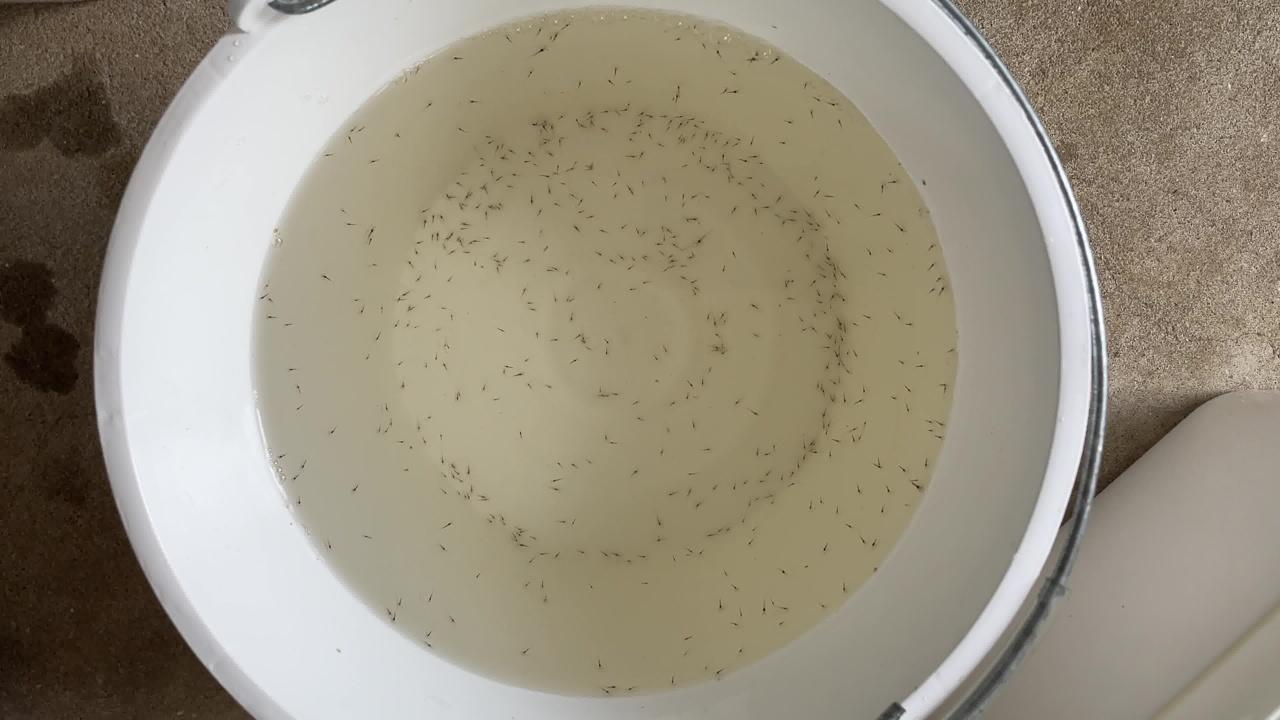shrimp: (829, 101, 841, 109), (835, 117, 847, 125), (814, 95, 826, 103), (807, 111, 819, 119), (801, 81, 813, 89), (784, 117, 796, 125), (776, 138, 788, 146), (746, 136, 758, 144), (747, 149, 759, 157), (756, 157, 768, 165), (739, 158, 751, 166), (734, 142, 746, 150), (737, 134, 749, 142), (724, 137, 736, 145), (714, 137, 726, 145), (710, 131, 722, 139), (703, 131, 715, 139), (699, 117, 711, 125), (690, 120, 702, 128), (690, 129, 702, 137), (682, 136, 694, 144), (677, 136, 689, 144), (676, 130, 688, 138), (677, 121, 689, 129), (677, 113, 689, 121), (665, 117, 677, 125), (663, 123, 675, 131), (663, 112, 675, 120), (658, 141, 670, 149), (645, 130, 657, 138), (637, 150, 649, 158), (629, 151, 641, 159), (627, 136, 639, 144), (630, 129, 642, 137), (637, 119, 649, 127), (645, 112, 657, 120), (638, 107, 650, 115), (673, 80, 685, 88), (675, 94, 687, 102), (729, 88, 741, 96), (720, 86, 732, 94), (612, 67, 624, 75), (625, 77, 637, 85), (606, 77, 618, 85), (576, 78, 588, 86), (623, 98, 635, 106), (620, 103, 632, 111), (614, 107, 626, 115), (602, 105, 614, 113), (603, 125, 615, 133), (588, 118, 600, 126), (591, 112, 603, 120), (587, 108, 599, 116), (576, 121, 588, 129), (559, 111, 571, 119), (558, 131, 570, 139), (553, 138, 565, 146), (539, 142, 551, 150), (543, 131, 555, 139), (544, 149, 556, 157), (550, 122, 562, 130), (541, 126, 553, 134), (539, 116, 551, 124), (532, 119, 544, 127), (527, 148, 539, 156), (522, 157, 534, 165), (529, 159, 541, 167), (510, 145, 522, 153), (499, 154, 511, 162), (498, 144, 510, 152), (493, 143, 505, 151), (487, 139, 499, 147), (484, 132, 496, 140), (478, 151, 490, 159), (478, 159, 490, 167), (510, 171, 522, 179), (507, 183, 519, 191), (496, 174, 508, 182), (486, 170, 498, 178), (540, 168, 552, 176), (553, 163, 565, 171), (550, 168, 562, 176), (568, 158, 580, 166), (562, 167, 574, 175), (586, 162, 598, 170), (590, 179, 602, 187), (608, 179, 620, 187), (610, 190, 622, 198), (624, 186, 636, 194), (618, 166, 630, 174), (639, 178, 651, 186), (659, 175, 671, 183), (659, 191, 671, 199), (674, 190, 686, 198), (677, 199, 689, 207), (687, 191, 699, 199), (700, 194, 712, 202), (681, 163, 693, 171), (691, 149, 703, 157), (705, 138, 717, 146), (695, 152, 707, 160), (701, 159, 713, 167), (710, 164, 722, 172), (719, 149, 731, 157), (722, 156, 734, 164), (726, 168, 738, 176), (723, 172, 735, 180), (745, 171, 757, 179), (736, 178, 748, 186), (759, 178, 771, 186), (751, 192, 763, 200), (730, 205, 742, 213), (751, 205, 763, 213), (761, 204, 773, 212), (776, 196, 788, 204), (771, 211, 783, 219), (786, 217, 798, 225), (789, 207, 801, 215), (778, 219, 790, 227), (811, 174, 823, 182), (811, 187, 823, 195), (821, 194, 833, 202), (824, 209, 836, 217), (831, 216, 843, 224), (812, 226, 824, 234), (815, 221, 827, 229), (807, 219, 819, 227), (804, 211, 816, 219), (798, 224, 810, 232), (796, 233, 808, 241), (824, 246, 836, 254), (840, 268, 852, 276), (831, 270, 843, 278), (829, 263, 841, 271), (824, 259, 836, 267), (822, 254, 834, 262), (819, 261, 831, 269), (819, 268, 831, 276), (811, 276, 823, 284), (833, 279, 845, 287), (813, 287, 825, 295), (800, 250, 812, 258), (840, 292, 852, 300), (829, 292, 841, 300), (826, 302, 838, 310), (863, 310, 875, 318), (849, 322, 861, 330), (845, 323, 857, 331), (837, 324, 849, 332), (835, 319, 847, 327), (810, 310, 822, 318), (815, 301, 827, 309), (795, 311, 807, 319), (799, 325, 811, 333), (809, 325, 821, 333), (786, 296, 798, 304), (782, 282, 794, 290), (788, 277, 800, 285), (753, 300, 765, 308), (753, 326, 765, 334), (828, 331, 840, 339), (830, 337, 842, 345), (839, 336, 851, 344), (854, 354, 866, 362), (841, 351, 853, 359), (832, 348, 844, 356), (819, 341, 831, 349), (822, 363, 834, 371), (832, 358, 844, 366), (841, 358, 853, 366), (843, 365, 855, 373), (837, 374, 849, 382), (831, 377, 843, 385), (839, 395, 851, 403), (830, 395, 842, 403), (820, 385, 832, 393), (817, 382, 829, 390), (859, 383, 871, 391), (856, 398, 868, 406), (819, 409, 831, 417), (827, 417, 839, 425), (825, 427, 837, 435), (815, 420, 827, 428), (862, 420, 874, 428), (858, 433, 870, 441), (851, 424, 863, 432), (850, 432, 862, 440), (833, 438, 845, 446), (825, 451, 837, 459), (812, 450, 824, 458), (808, 436, 820, 444), (800, 441, 812, 449), (803, 453, 815, 461), (794, 460, 806, 468), (788, 469, 800, 477), (789, 480, 801, 488), (779, 472, 791, 480), (771, 440, 783, 448), (764, 450, 776, 458), (753, 450, 765, 458), (751, 412, 763, 420), (731, 397, 743, 405), (732, 248, 744, 256), (720, 263, 732, 271), (718, 312, 730, 320), (723, 318, 735, 326), (711, 321, 723, 329), (703, 311, 715, 319), (714, 328, 726, 336), (721, 339, 733, 347), (722, 348, 734, 356), (712, 342, 724, 350), (709, 364, 721, 372), (700, 379, 712, 387), (684, 376, 696, 384), (684, 392, 696, 400), (689, 420, 701, 428), (702, 444, 714, 452), (764, 470, 776, 478), (761, 477, 773, 485), (766, 490, 778, 498), (769, 496, 781, 504), (744, 497, 756, 505), (752, 496, 764, 504), (743, 477, 755, 485), (733, 482, 745, 490), (711, 482, 723, 490), (687, 469, 699, 477), (687, 486, 699, 494), (691, 498, 703, 506), (669, 490, 681, 498), (736, 516, 748, 524), (749, 523, 761, 531), (747, 534, 759, 542), (727, 525, 739, 533), (717, 524, 729, 532), (707, 531, 719, 539), (698, 550, 710, 558), (684, 544, 696, 552), (684, 551, 696, 559), (668, 556, 680, 564), (656, 537, 668, 545), (656, 515, 668, 523), (641, 579, 653, 587), (642, 553, 654, 561), (657, 451, 669, 459), (668, 399, 680, 407), (632, 469, 644, 477), (637, 416, 649, 424), (627, 399, 639, 407), (652, 354, 664, 362), (661, 345, 673, 353), (613, 389, 625, 397), (599, 392, 611, 400), (595, 382, 607, 390), (611, 438, 623, 446), (600, 430, 612, 438), (587, 457, 599, 465), (567, 463, 579, 471), (554, 458, 566, 466), (551, 476, 563, 484), (550, 488, 562, 496), (572, 517, 584, 525), (557, 516, 569, 524), (626, 557, 638, 565), (613, 548, 625, 556), (601, 547, 613, 555), (577, 545, 589, 553), (553, 551, 565, 559), (542, 551, 554, 559), (687, 214, 699, 222), (697, 235, 709, 243), (696, 282, 708, 290), (688, 289, 700, 297), (691, 275, 703, 283), (679, 272, 691, 280), (679, 258, 691, 266), (687, 250, 699, 258), (659, 266, 671, 274), (671, 265, 683, 273), (668, 259, 680, 267), (664, 252, 676, 260), (671, 244, 683, 252), (669, 234, 681, 242), (665, 228, 677, 236), (657, 225, 669, 233), (660, 234, 672, 242), (656, 239, 668, 247), (641, 248, 653, 256), (642, 254, 654, 262), (643, 277, 655, 285), (629, 285, 641, 293), (627, 264, 639, 272), (628, 255, 640, 263), (641, 229, 653, 237), (635, 227, 647, 235), (619, 251, 631, 259), (610, 258, 622, 266), (595, 283, 607, 291), (594, 250, 606, 258), (600, 227, 612, 235), (617, 222, 629, 230), (588, 214, 600, 222), (571, 226, 583, 234), (576, 208, 588, 216), (576, 202, 588, 210), (568, 194, 580, 202), (556, 179, 568, 187), (543, 183, 555, 191), (553, 201, 565, 209), (538, 207, 550, 215), (528, 196, 540, 204), (540, 244, 552, 252), (561, 269, 573, 277), (548, 263, 560, 271), (544, 268, 556, 276), (550, 293, 562, 301), (560, 291, 572, 299), (566, 296, 578, 304), (564, 310, 576, 318), (604, 337, 616, 345), (599, 347, 611, 355), (582, 346, 594, 354), (577, 338, 589, 346), (572, 332, 584, 340), (571, 360, 583, 368), (550, 334, 562, 342), (532, 333, 544, 341), (528, 306, 540, 314), (528, 298, 540, 306), (521, 288, 533, 296), (523, 253, 535, 261), (516, 237, 528, 245), (502, 251, 514, 259), (491, 249, 503, 257), (490, 255, 502, 263), (498, 260, 510, 268), (490, 267, 502, 275), (476, 261, 488, 269), (468, 260, 480, 268), (484, 230, 496, 238), (470, 236, 482, 244), (461, 250, 473, 258), (496, 199, 508, 207), (493, 205, 505, 213), (485, 204, 497, 212), (480, 210, 492, 218), (476, 181, 488, 189), (481, 186, 493, 194), (471, 202, 483, 210), (463, 191, 475, 199), (455, 180, 467, 188), (462, 169, 474, 177), (457, 203, 469, 211), (447, 194, 459, 202), (462, 217, 474, 225), (459, 224, 471, 232), (457, 235, 469, 243), (447, 248, 459, 256), (439, 245, 451, 253), (447, 233, 459, 241), (435, 228, 447, 236), (426, 233, 438, 241), (437, 211, 449, 219), (430, 211, 442, 219), (420, 219, 432, 227), (420, 204, 432, 212), (501, 323, 513, 331), (522, 356, 534, 364), (542, 383, 554, 391), (521, 385, 533, 393), (511, 371, 523, 379), (506, 364, 518, 372), (499, 368, 511, 376), (518, 431, 530, 439), (489, 398, 501, 406), (476, 384, 488, 392), (452, 395, 464, 403), (437, 363, 449, 371), (431, 354, 443, 362), (421, 364, 433, 372), (441, 339, 453, 347), (448, 315, 460, 323), (434, 326, 446, 334), (439, 303, 451, 311), (446, 275, 458, 283), (433, 262, 445, 270), (415, 239, 427, 247), (410, 247, 422, 255), (407, 261, 419, 269), (413, 272, 425, 280), (422, 292, 434, 300), (407, 287, 419, 295), (394, 292, 406, 300), (405, 304, 417, 312), (413, 324, 425, 332), (405, 320, 417, 328), (392, 320, 404, 328), (378, 304, 390, 312), (373, 333, 385, 341), (365, 355, 377, 363), (396, 357, 408, 365), (397, 379, 409, 387), (378, 406, 390, 414), (386, 414, 398, 422), (381, 425, 393, 433), (375, 423, 387, 431), (422, 412, 434, 420), (412, 422, 424, 430), (430, 433, 442, 441), (416, 434, 428, 442), (395, 436, 407, 444), (404, 467, 416, 475), (437, 454, 449, 462), (449, 461, 461, 469), (453, 468, 465, 476), (447, 469, 459, 477), (454, 477, 466, 485), (461, 468, 473, 476), (437, 470, 449, 478), (438, 485, 450, 493), (468, 482, 480, 490), (455, 488, 467, 496), (459, 493, 471, 501), (463, 492, 475, 500), (476, 491, 488, 499), (477, 497, 489, 505), (487, 511, 499, 519), (484, 517, 496, 525), (495, 512, 507, 520), (499, 520, 511, 528), (530, 533, 542, 541), (521, 543, 533, 551), (516, 524, 528, 532), (513, 530, 525, 538), (507, 532, 519, 540), (528, 555, 540, 563), (538, 577, 550, 585), (538, 594, 550, 602), (521, 646, 533, 654), (449, 614, 461, 622), (476, 570, 488, 578), (523, 581, 535, 589), (590, 584, 602, 592), (439, 520, 451, 528), (435, 541, 447, 549), (425, 593, 437, 601), (426, 625, 438, 633), (421, 641, 433, 649), (394, 598, 406, 606), (391, 616, 403, 624), (383, 603, 395, 611), (362, 531, 374, 539), (350, 485, 362, 493), (326, 425, 338, 433), (325, 544, 337, 552), (297, 498, 309, 506), (289, 472, 301, 480), (301, 457, 313, 465), (275, 453, 287, 461), (293, 404, 305, 412), (295, 384, 307, 392), (289, 360, 301, 368), (284, 320, 296, 328), (360, 305, 372, 313), (353, 294, 365, 302), (322, 273, 334, 281), (264, 313, 276, 321), (268, 295, 280, 303), (257, 291, 269, 299), (369, 264, 381, 272), (365, 239, 377, 247), (370, 222, 382, 230), (345, 220, 357, 228), (338, 209, 350, 217), (323, 149, 335, 157), (344, 137, 356, 145), (345, 122, 357, 130), (358, 124, 370, 132), (367, 158, 379, 166), (391, 131, 403, 139), (424, 98, 436, 106), (472, 96, 484, 104), (457, 129, 469, 137), (455, 54, 467, 62), (504, 35, 516, 43), (528, 70, 540, 78), (534, 46, 546, 54), (534, 25, 546, 33), (546, 34, 558, 42), (550, 35, 562, 43), (559, 22, 571, 30), (675, 36, 687, 44), (688, 19, 700, 27), (700, 39, 712, 47), (713, 48, 725, 56), (728, 68, 740, 76), (750, 56, 762, 64), (750, 49, 762, 57), (769, 57, 781, 65), (892, 178, 904, 186), (881, 184, 893, 192), (855, 202, 867, 210), (870, 211, 882, 219), (890, 223, 902, 231), (883, 246, 895, 254), (863, 246, 875, 254), (879, 269, 891, 277), (928, 243, 940, 251), (925, 259, 937, 267), (934, 274, 946, 282), (939, 284, 951, 292), (927, 287, 939, 295), (907, 321, 919, 329), (888, 309, 900, 317), (948, 346, 960, 354), (913, 347, 925, 355), (913, 361, 925, 369), (900, 358, 912, 366), (942, 378, 954, 386), (942, 384, 954, 392), (903, 383, 915, 391), (888, 394, 900, 402), (899, 403, 911, 411), (939, 419, 951, 427), (929, 417, 941, 425), (929, 425, 941, 433), (934, 434, 946, 442), (922, 457, 934, 465), (911, 474, 923, 482), (911, 481, 923, 489), (900, 465, 912, 473), (875, 454, 887, 462), (871, 460, 883, 468), (884, 484, 896, 492), (877, 504, 889, 512), (902, 502, 914, 510), (851, 485, 863, 493), (832, 507, 844, 515), (818, 499, 830, 507), (807, 500, 819, 508), (848, 521, 860, 529), (859, 536, 871, 544), (869, 539, 881, 547), (822, 543, 834, 551), (838, 583, 850, 591), (818, 601, 830, 609), (802, 559, 814, 567), (781, 566, 793, 574), (783, 603, 795, 611), (777, 619, 789, 627), (770, 597, 782, 605), (759, 606, 771, 614), (731, 582, 743, 590), (720, 566, 732, 574), (736, 606, 748, 614), (733, 620, 745, 628), (716, 602, 728, 610), (737, 648, 749, 656), (717, 667, 729, 675), (701, 665, 713, 673), (680, 650, 692, 658), (683, 634, 695, 642), (665, 678, 677, 686), (629, 685, 641, 693), (608, 683, 620, 691), (598, 687, 610, 695), (593, 661, 605, 669), (664, 428, 676, 436), (652, 376, 664, 384)
